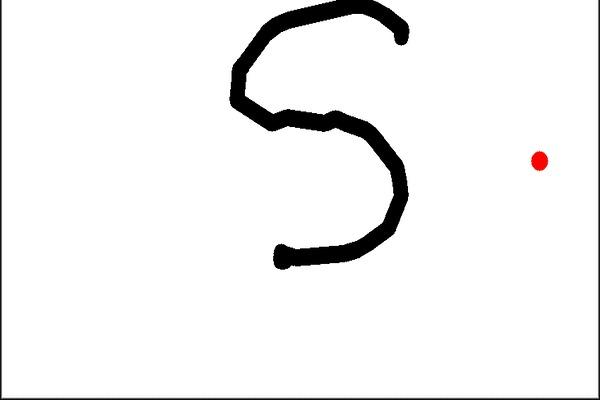S: (222, 0, 422, 274)
